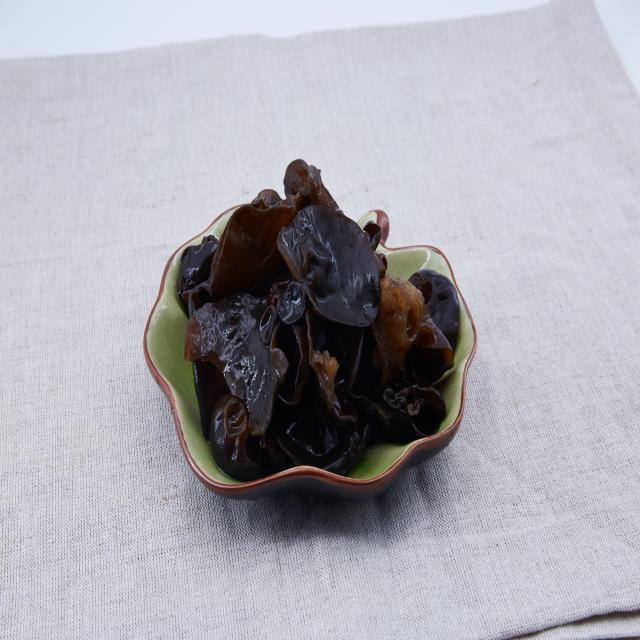Auricularia auricula: (181, 160, 460, 468)
